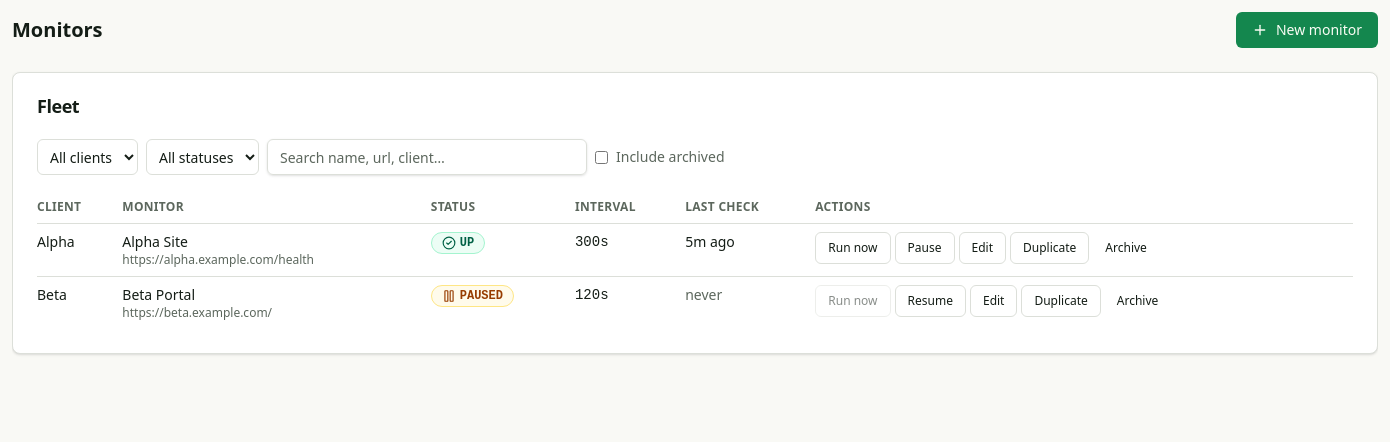
Test case: MonitorsPage actions › guards archive behind a confirm step and only DELETEs on confirmation
The width and height of the screenshot is (1390, 442).
Click the button "Archive" in the row of "Alpha Site" at (1126, 248), box [1093,232,1159,264]
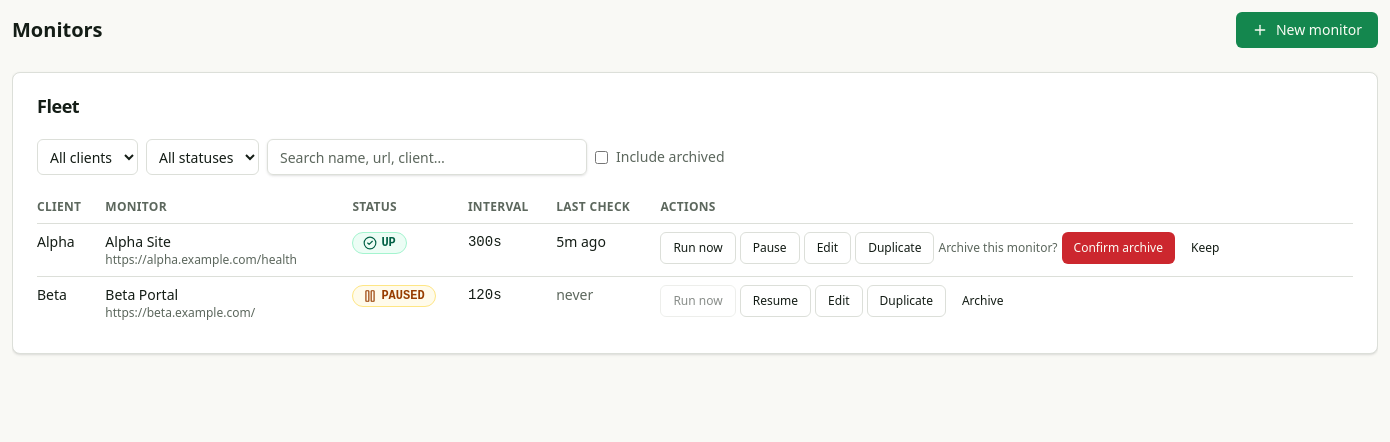
Expected: the button "Keep" is shown, [1179,232,1231,264]
Click the button "Confirm archive" at (1118, 248), box [1062,232,1175,264]
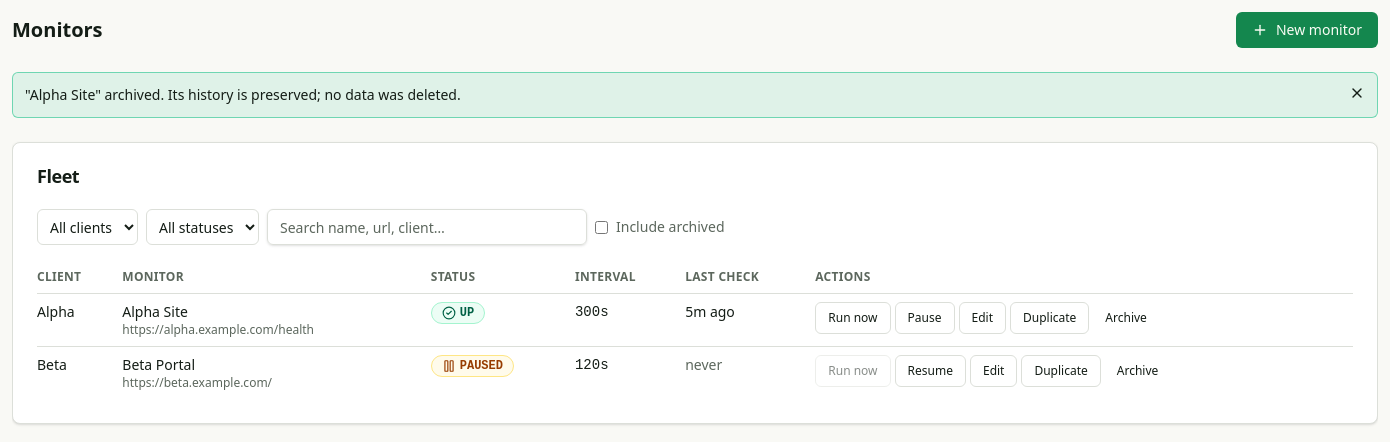
Expected: the text "archived. Its history is preserved" is shown, [25,85,461,104]
